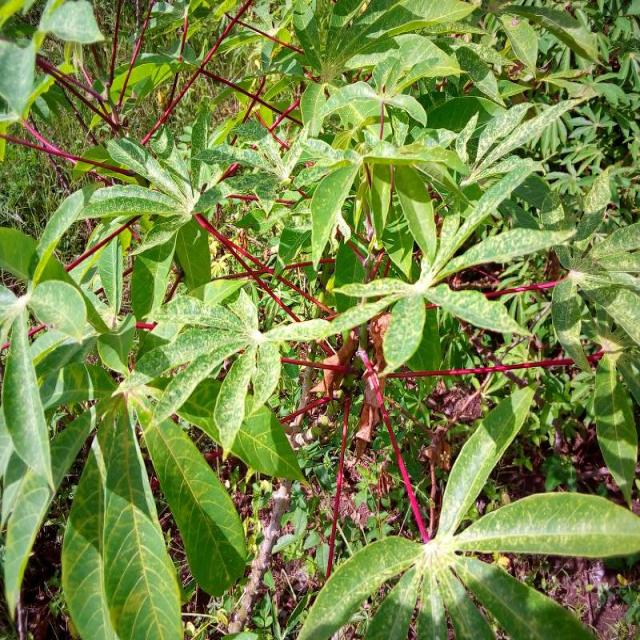cassava leaf: (1, 1, 638, 638), (298, 382, 640, 638), (61, 398, 185, 638)
